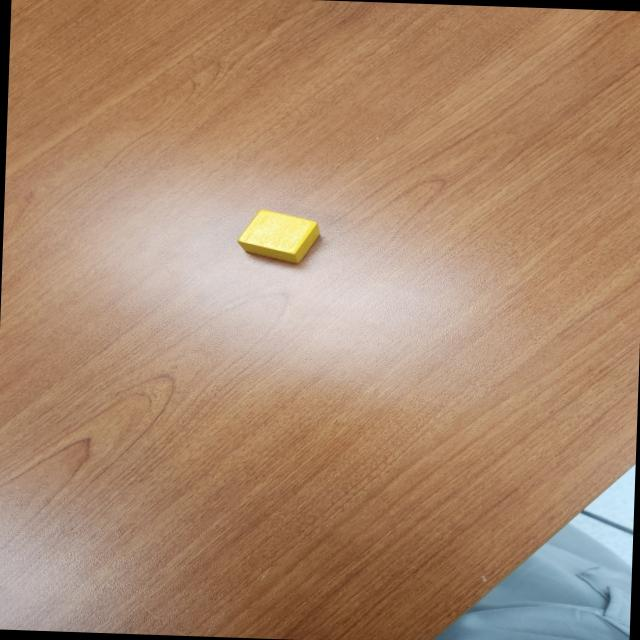yellow: (235, 208, 322, 264)
